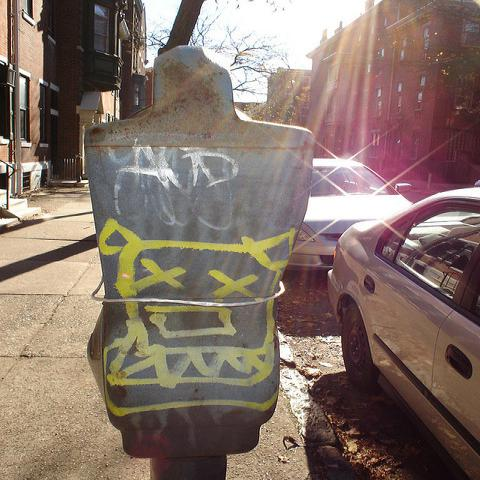car: (328, 187, 479, 479), (288, 157, 414, 268)
